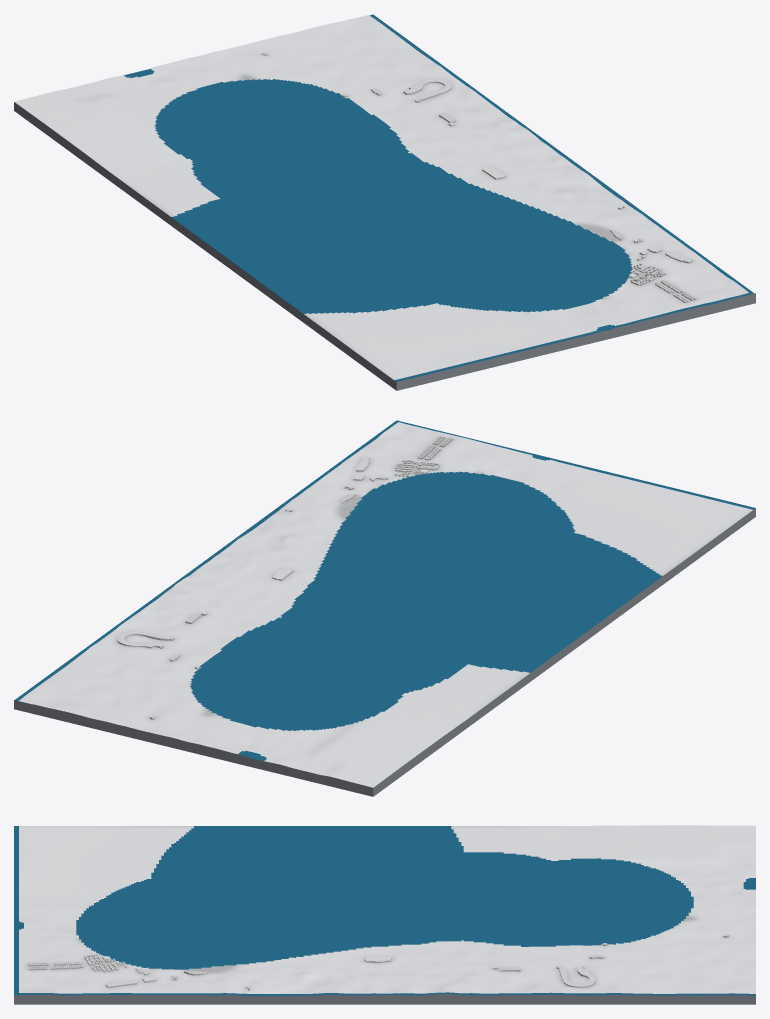
File: far.glb
3 renders of one model, top to bottom at view 1: azimuth 30°, elevation 25°; view 2: azimuth 150°, elevation 25°; view 3: azimuth 270°, elevation 25°, orthographic. The views are drawn at different scales.
Parts seen in each view (by area): view 1: water, terrain, plinth, building; view 2: water, terrain, plinth, building; view 3: water, terrain, plinth, building.
Boxes of the visible parts, x1,y1,x2,y2 form: water: (124, 14, 754, 381); terrain: (14, 15, 748, 380); plinth: (14, 102, 755, 390); building: (262, 52, 696, 302); water: (14, 420, 755, 760); terrain: (19, 422, 752, 787); plinth: (14, 508, 755, 796); building: (117, 436, 453, 719); water: (14, 826, 755, 995); terrain: (19, 825, 755, 993); plinth: (14, 993, 755, 1004); building: (28, 934, 729, 990).
Size of the model in its own units: 2576 by 80.94 by 4752.
